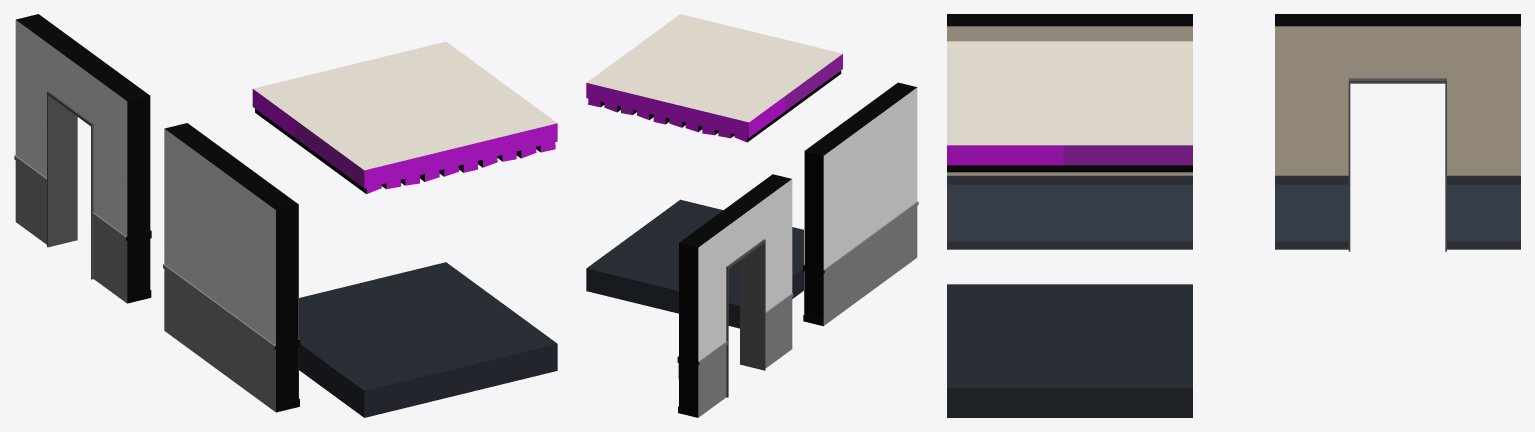
Rendered from Cosas.fbx.
The picture shows the model from 3 angles, left to right: view 1: azimuth 30°, elevation 25°; view 2: azimuth 150°, elevation 25°; view 3: azimuth 270°, elevation 25°; orthographic projection. The views are drawn at different scales.
Parts seen in each view (by area): view 1: Wall, Techo, WallVariant, Piso; view 2: Wall, Techo, WallVariant, Piso; view 3: WallVariant, Piso, Techo, Wall.
Boxes of the visible parts, x1,y1,x2,y2 form: Wall: (163, 123, 300, 412); Techo: (252, 41, 557, 194); WallVariant: (14, 14, 151, 303); Piso: (299, 262, 557, 417); Wall: (803, 82, 918, 326); Techo: (586, 14, 842, 142); WallVariant: (677, 174, 793, 417); Piso: (586, 199, 803, 328); WallVariant: (1275, 14, 1520, 251); Piso: (947, 284, 1192, 417); Techo: (947, 41, 1192, 172); Wall: (947, 14, 1192, 249).
Bounding box in the file's own units: 440 × 367 × 700.
Materials: 1 (1 with a texture image).
